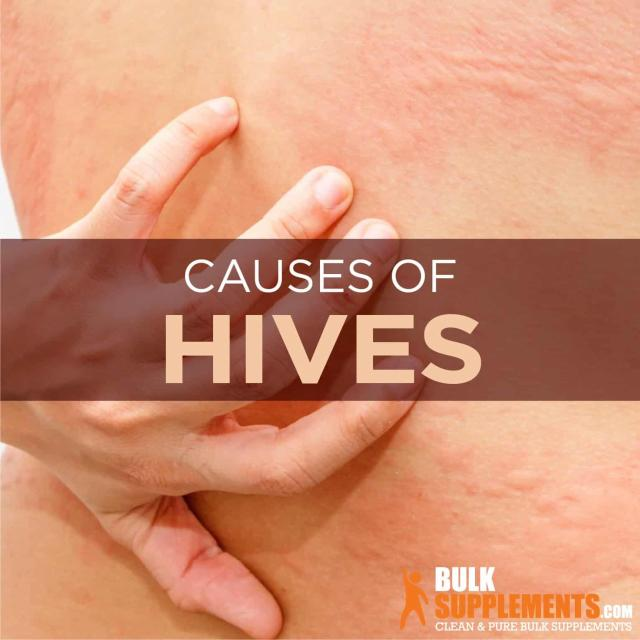hives: (386, 19, 640, 178), (407, 424, 640, 562)
